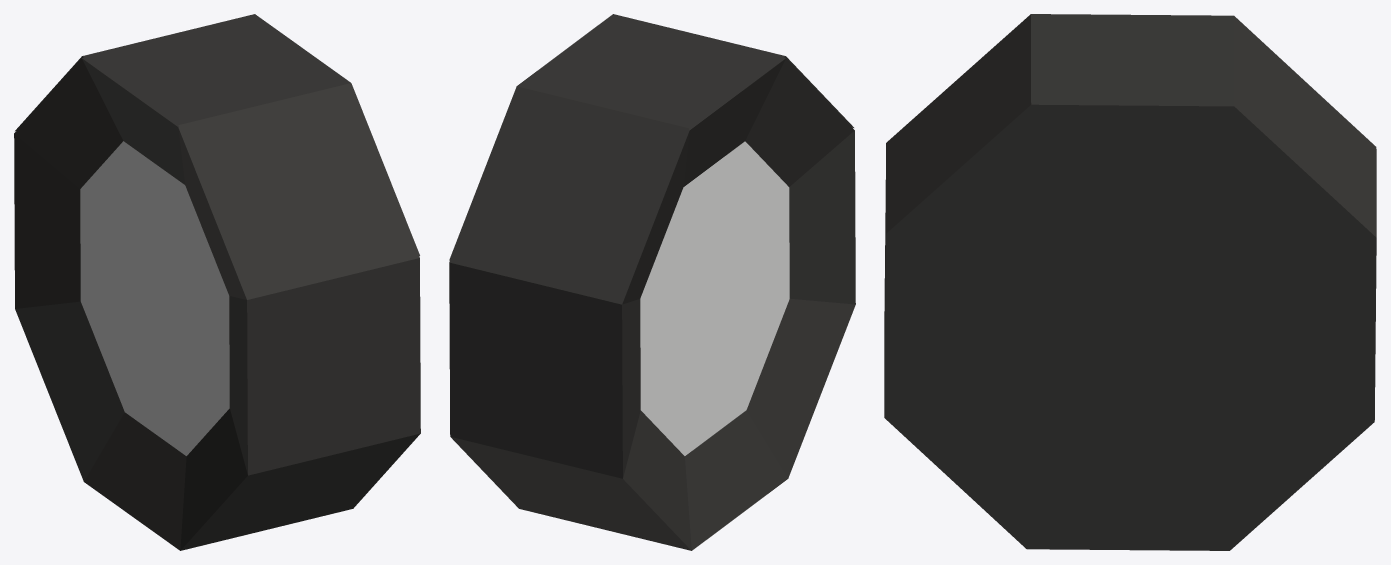
The model's file is wheel.fbx.
3 renders of one model, left to right at view 1: azimuth 30°, elevation 25°; view 2: azimuth 150°, elevation 25°; view 3: azimuth 270°, elevation 25°, orthographic. The views are drawn at different scales.
Visible parts, largest first — view 1: Wheel; view 2: Wheel; view 3: Wheel.
Part boxes in pixels (<box>): Wheel: <box>14,14,420,550</box>; Wheel: <box>449,14,855,550</box>; Wheel: <box>884,14,1376,550</box>.
Size of the model in its own units: 28.76 by 67.6 by 67.29.
Materials: 1 (1 with a texture image).
